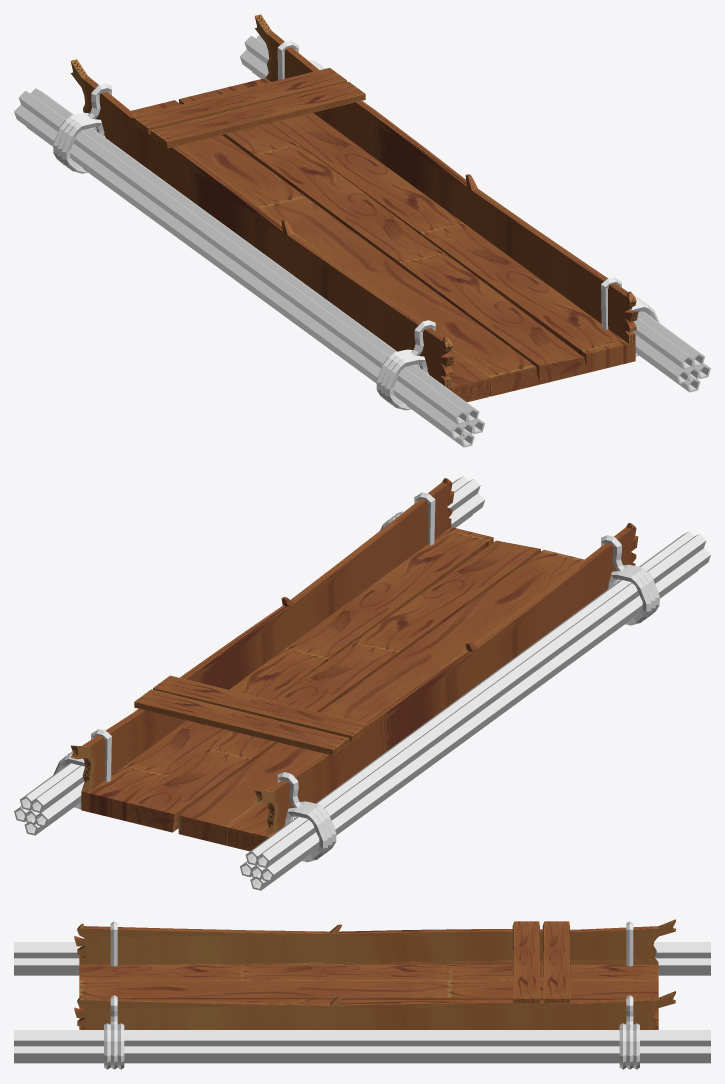
Rendered from BarcoNivel2.fbx.
3 renders of one model, top to bottom at view 1: azimuth 30°, elevation 25°; view 2: azimuth 150°, elevation 25°; view 3: azimuth 270°, elevation 25°, orthographic. The views are drawn at different scales.
Visible parts, largest first — view 1: Cube005, Object002, Object001, Cube004, Cube006, Tube018, Tube016, Cube009, Tube017, Cube008, Tube024, Cube007 (+7 smaller); view 2: Cube005, Object002, Object001, Cube004, Cube006, Tube018, Tube016, Tube017, Cube008, Cube009, Tube024, Cube007 (+7 smaller); view 3: Object002, Object001, Cube006, Cube007, Tube020, Tube023, Tube019, Tube024, Cube008, Cube009, Tube017, Tube014 (+12 smaller).
Part boxes in pixels (bbox=[...]): Cube005: bbox=[178, 88, 588, 384]; Object002: bbox=[70, 59, 454, 388]; Object001: bbox=[254, 14, 638, 343]; Cube004: bbox=[223, 78, 635, 372]; Cube006: bbox=[131, 100, 538, 396]; Tube018: bbox=[18, 91, 468, 424]; Tube016: bbox=[14, 105, 464, 438]; Cube009: bbox=[150, 81, 365, 148]; Tube017: bbox=[30, 88, 479, 422]; Cube008: bbox=[132, 67, 346, 134]; Tube024: bbox=[244, 36, 694, 369]; Cube007: bbox=[447, 349, 491, 402]; Cube005: bbox=[128, 540, 540, 832]; Object002: bbox=[254, 523, 638, 835]; Object001: bbox=[70, 478, 454, 792]; Cube004: bbox=[81, 527, 493, 821]; Cube006: bbox=[178, 549, 584, 845]; Tube018: bbox=[256, 534, 706, 867]; Tube016: bbox=[260, 548, 710, 882]; Tube017: bbox=[245, 531, 694, 865]; Cube008: bbox=[134, 689, 349, 755]; Cube009: bbox=[153, 675, 368, 741]; Tube024: bbox=[30, 479, 480, 812]; Cube007: bbox=[227, 803, 274, 851]; Object002: bbox=[74, 919, 675, 964]; Object001: bbox=[74, 991, 675, 1029]; Cube006: bbox=[79, 979, 658, 999]; Cube007: bbox=[79, 962, 658, 980]; Tube020: bbox=[14, 1046, 710, 1058]; Tube023: bbox=[14, 1034, 710, 1046]; Tube019: bbox=[14, 1059, 710, 1063]; Tube024: bbox=[14, 1030, 710, 1033]; Cube008: bbox=[542, 921, 570, 1003]; Cube009: bbox=[512, 921, 540, 1003]; Tube017: bbox=[14, 946, 710, 958]; Tube014: bbox=[14, 958, 710, 970].
Bounding box in the file's own units: 532 × 159 × 1466.
Materials: 1 (1 with a texture image).
